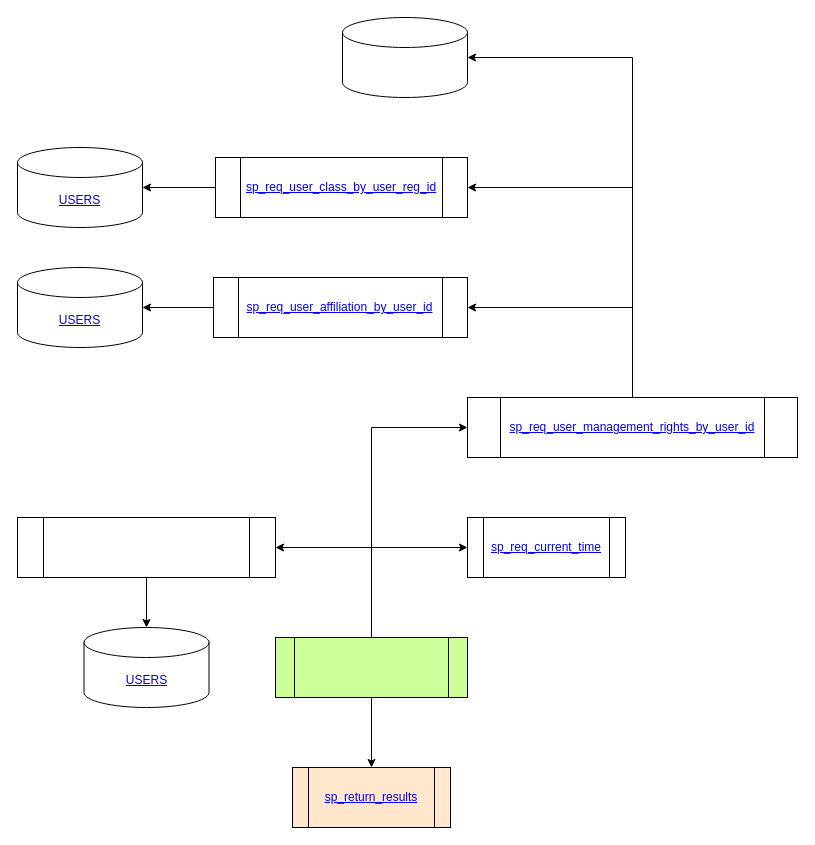
Some shapes in this 815 by 845 pixel diagram are drawn without their labels. The box of each missing label's shape, as (x1, y1, x2, y2) in pixels:
COMPANY: (342, 16, 468, 98)
sp_delete_user: (274, 636, 468, 698)
sp_req_user_validation_by_user_id: (16, 516, 276, 578)
